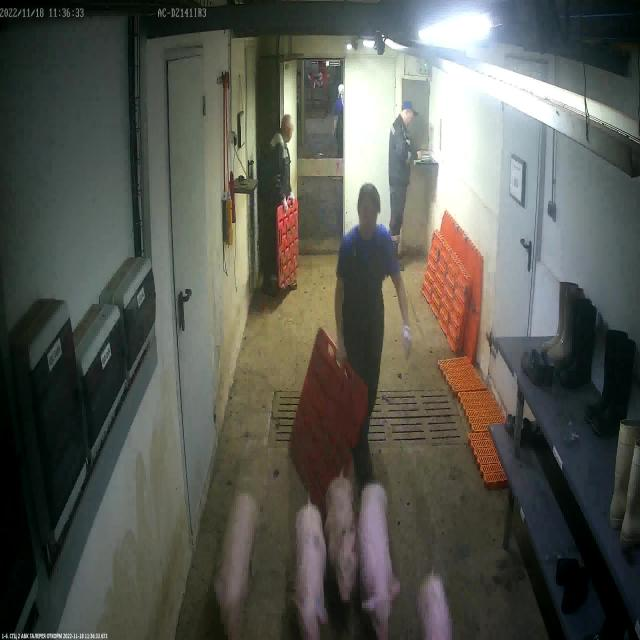pig: (216, 494, 262, 640), (359, 484, 400, 640), (324, 478, 360, 607), (294, 504, 328, 640), (418, 571, 454, 640)
